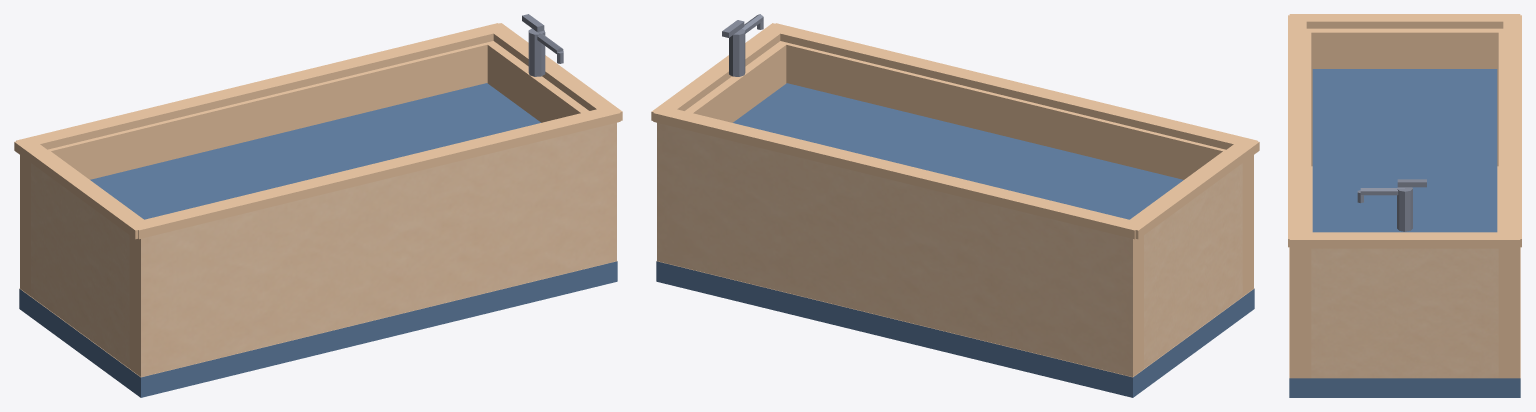
File: Bathtub.fbx
3 renders of one model, left to right at view 1: azimuth 30°, elevation 25°; view 2: azimuth 150°, elevation 25°; view 3: azimuth 270°, elevation 25°, orthographic. The views are drawn at different scales.
Parts seen in each view (by area): view 1: Bathtub; view 2: Bathtub; view 3: Bathtub.
Boxes of the visible parts, x1,y1,x2,y2 form: Bathtub: [14, 14, 622, 397]; Bathtub: [651, 14, 1259, 397]; Bathtub: [1288, 14, 1521, 397].
Size of the model in its own units: 1.74 by 0.746 by 0.76.
Materials: 1 (1 with a texture image).
